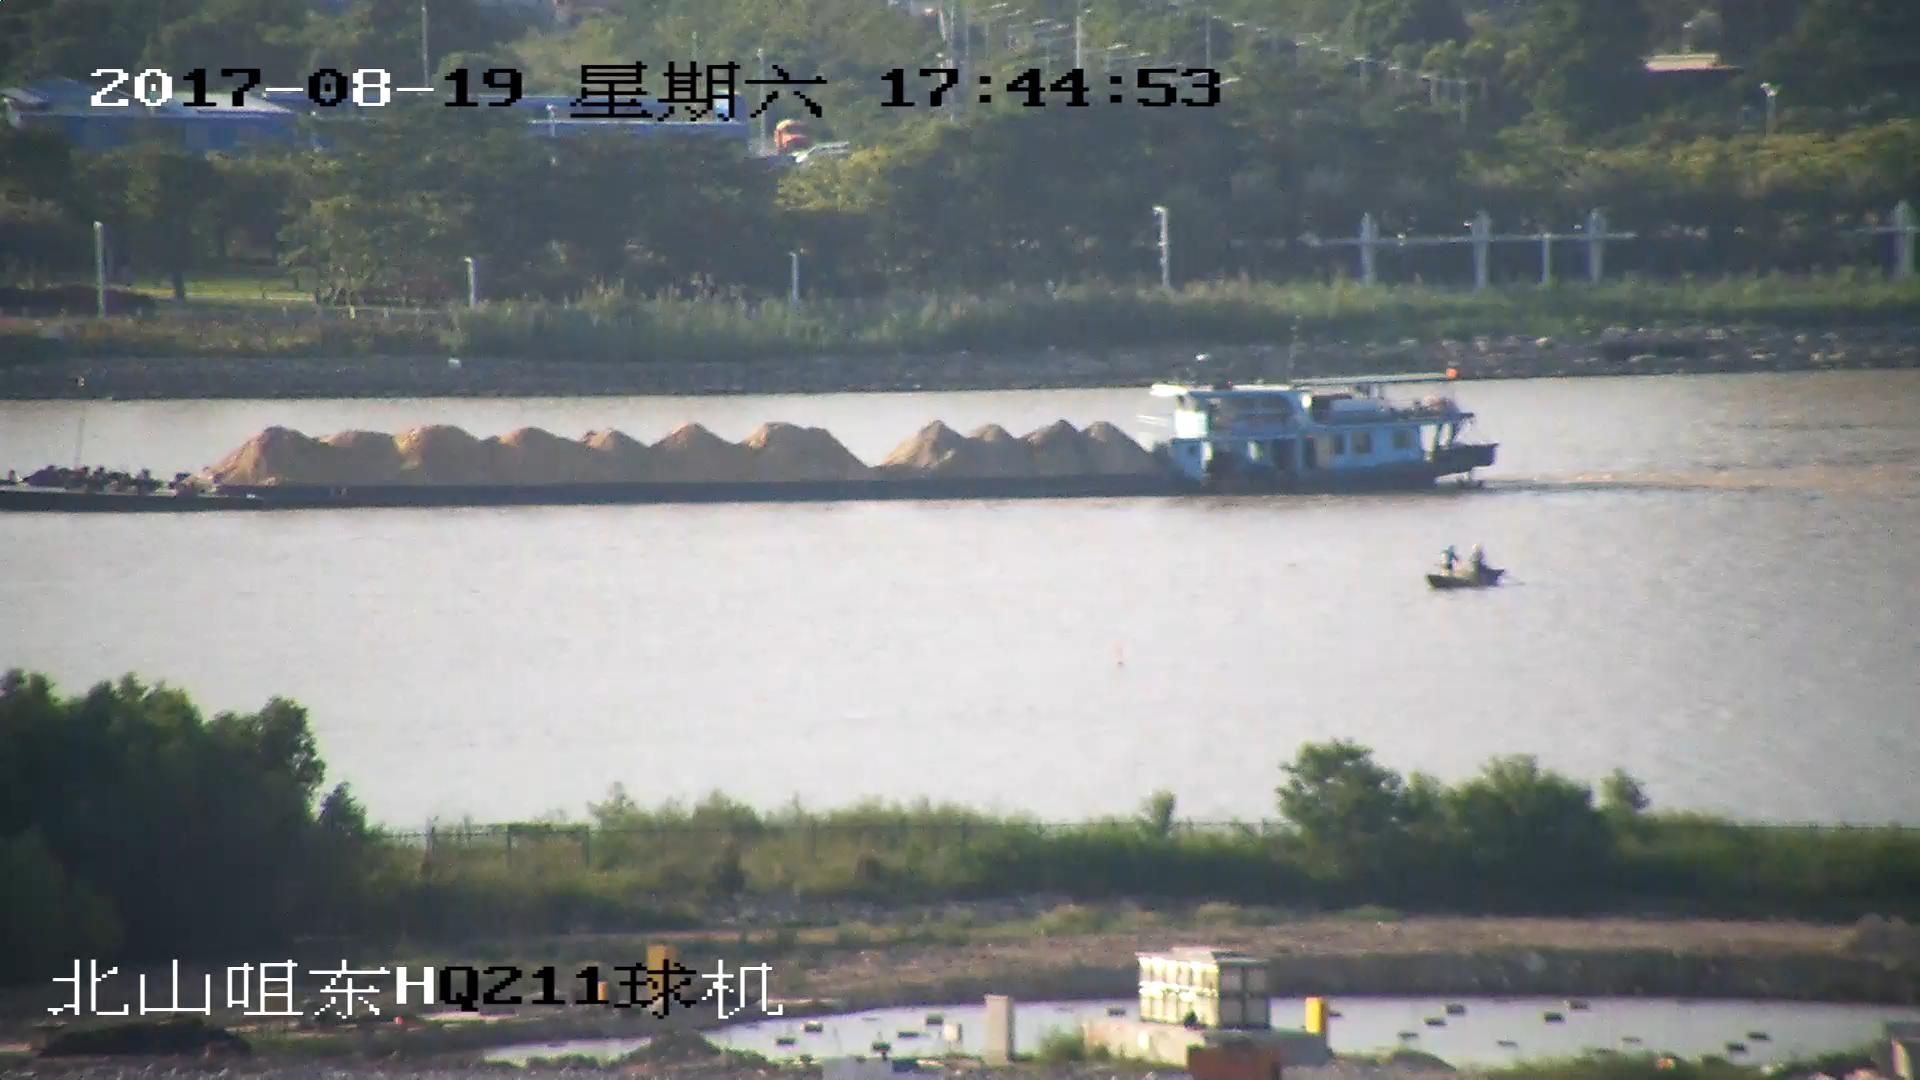fishing boat: (1426, 544, 1508, 592)
ore carrier: (1, 353, 1506, 514)
